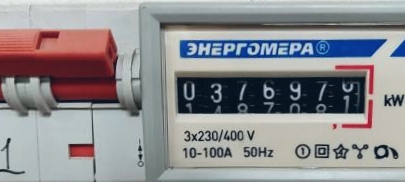0: (181, 78, 195, 100)
1: (339, 92, 351, 113)
3: (208, 80, 223, 103)
6: (260, 76, 275, 99)
7: (233, 77, 248, 100), (314, 78, 328, 101)
9: (286, 77, 301, 100)
screen: (165, 58, 377, 134)
